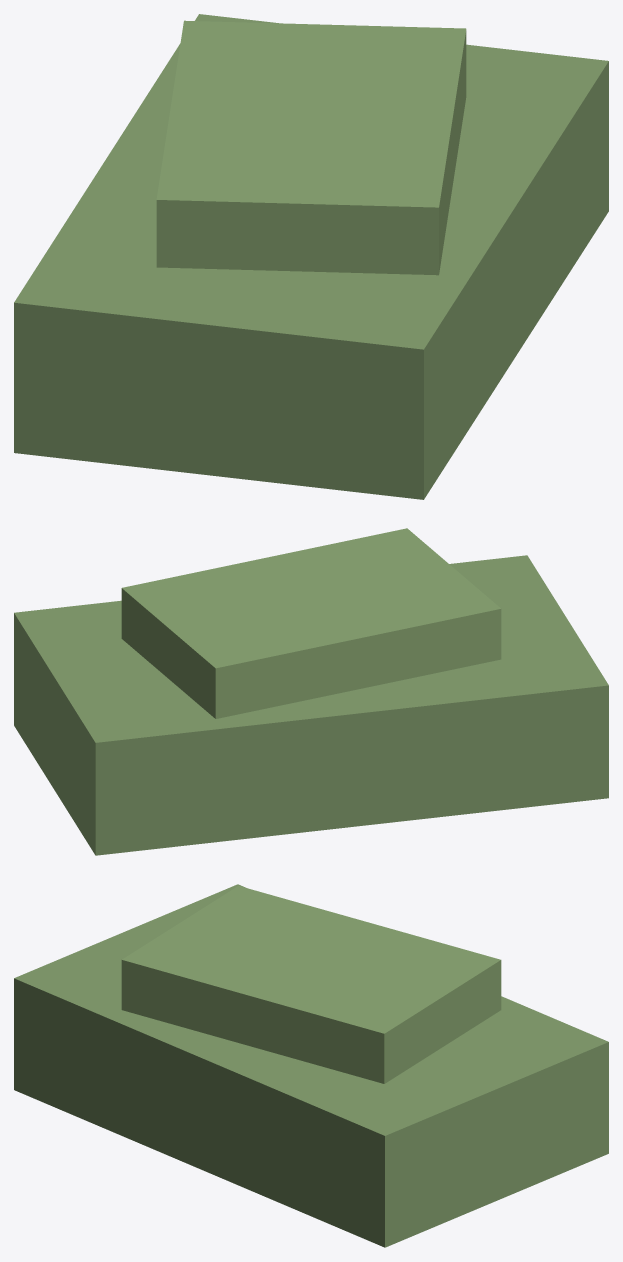
File: structure.glb
The picture shows the model from 3 angles, top to bottom: view 1: azimuth 30°, elevation 25°; view 2: azimuth 150°, elevation 25°; view 3: azimuth 270°, elevation 25°; orthographic projection. The views are drawn at different scales.
Visible parts, largest first — view 1: Box1, Box2; view 2: Box1, Box2; view 3: Box1, Box2.
Part boxes in pixels (x1,y1,x2,y2): Box1: (14, 14, 608, 499); Box2: (156, 20, 466, 275); Box1: (14, 555, 608, 855); Box2: (121, 528, 501, 718); Box1: (14, 884, 608, 1247); Box2: (121, 886, 501, 1083).
Bounding box in the file's own units: 107 × 32.18 × 107.
